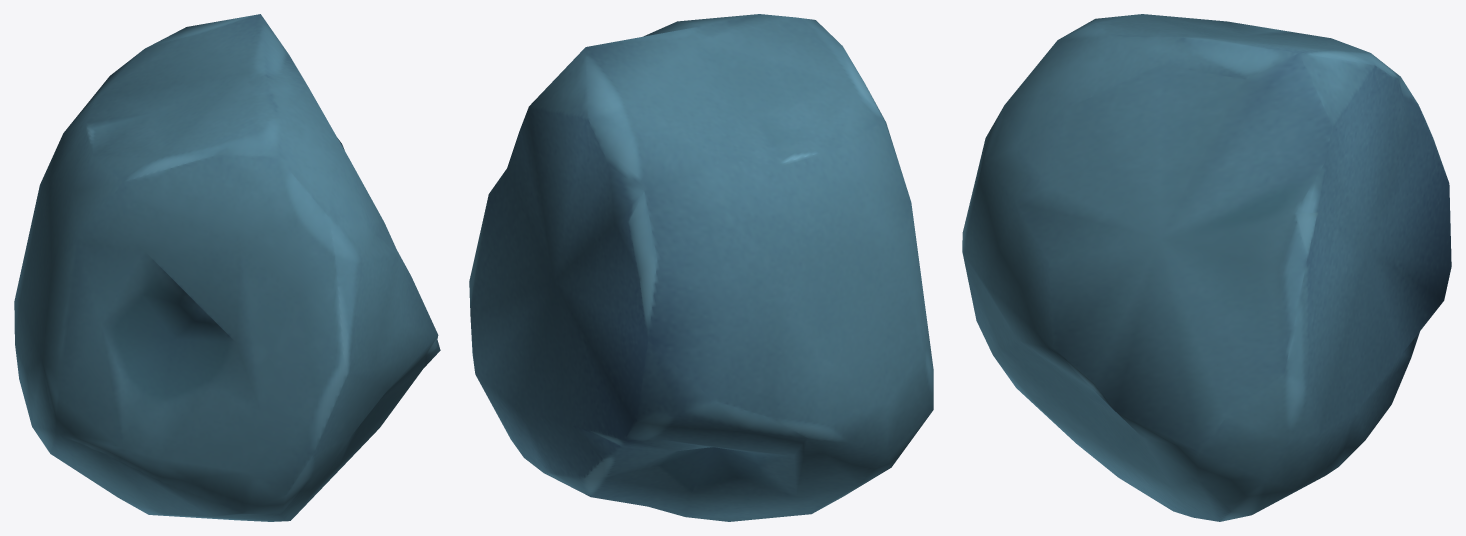
Rendered from Stone_04.fbx.
3 views of the same model, side by side, from view 1: azimuth 30°, elevation 25°; view 2: azimuth 150°, elevation 25°; view 3: azimuth 270°, elevation 25° (orthographic). The views are drawn at different scales.
Visible parts, largest first — view 1: Cube.011; view 2: Cube.011; view 3: Cube.011.
Boxes of the visible parts, left/top/right/bottom form: Cube.011: left=14, top=14, right=440, bottom=521; Cube.011: left=469, top=14, right=933, bottom=521; Cube.011: left=962, top=14, right=1451, bottom=521.
Size of the model in its own units: 262 by 293 by 272.
